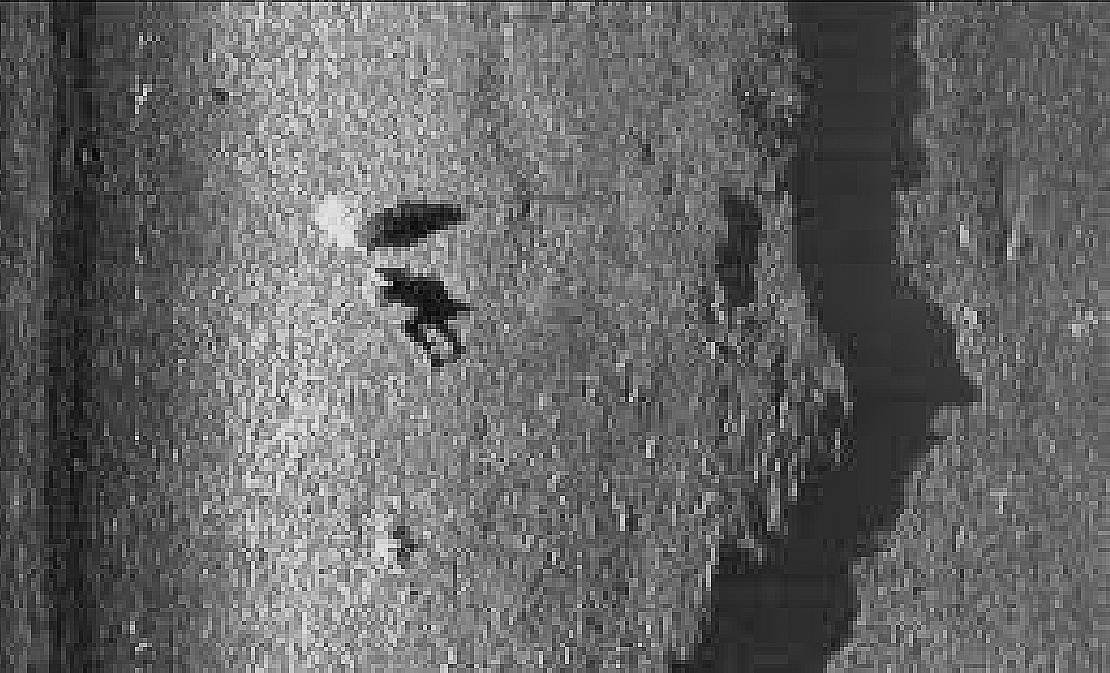man: (357, 262, 467, 374)
